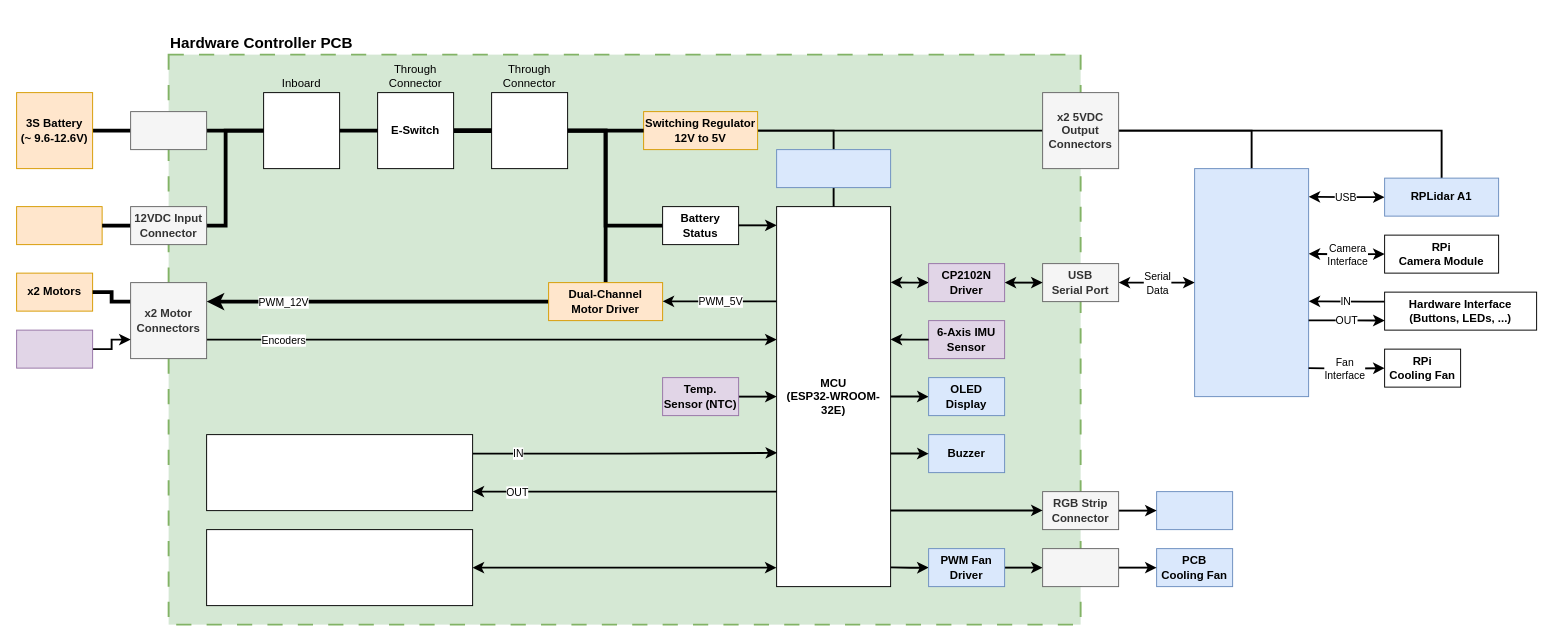
Image size: 1553x641. Some labels were removed from this diagram. The centre of each missing label's shape, as x and y in pixels:
"Battery Connector" belongs at point (168, 130).
"Comm. Interfaces (UART / I2C / Programming / ...)" belongs at point (339, 567).
"External Power Supply" belongs at point (59, 225).
"Fuse" belongs at point (301, 130).
"Hardware Interface (Headers for Unused GPIO )" belongs at point (339, 472).
"LDO Regulator 5V to 3V3" belongs at point (833, 168).
"Main Switch" belongs at point (529, 130).
"NeoPixel RGB Strip" belongs at point (1194, 510).
"PWM 3-Pin Connector" belongs at point (1080, 567).
"Raspberry Pi 4B (4 GB)" belongs at point (1251, 282).
"x2 Encoders" belongs at point (54, 348).
